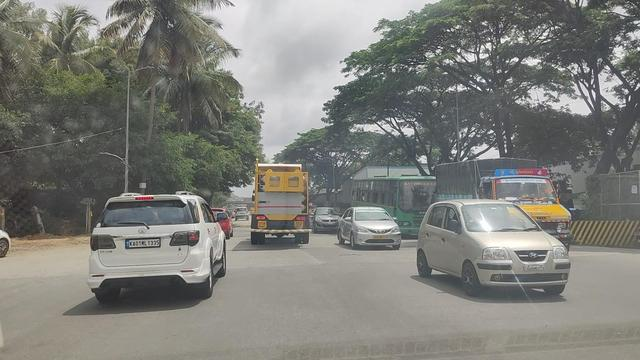HMV: (250, 159, 310, 238)
LMV: (89, 193, 225, 294)
RoadDamages: (238, 249, 325, 272)
